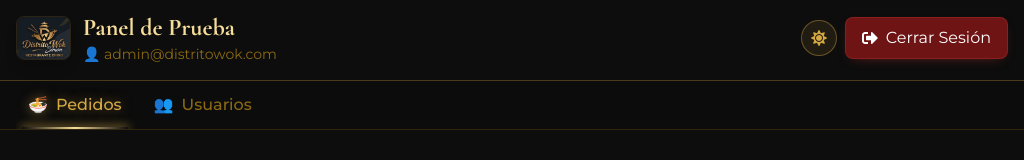
Test: el botón de modo queda a la izquierda de Cerrar Sesión y alterna el modo
What coordinates should you click on to do the following:
click the button named "Cambiar a modo diurno"
I would click on:
 (819, 38)
Its box is [801,20,837,56].
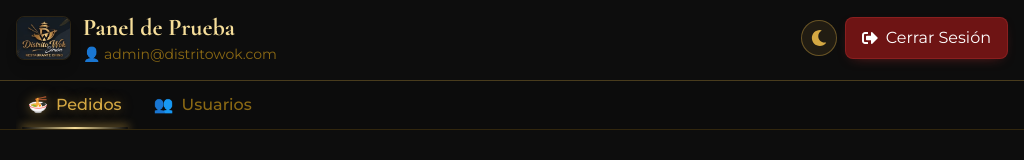
Expected: the button "Cerrar Sesión" is shown, [845,17,1008,59]
Result: the button named "Cambiar a modo nocturno" is shown at [801,20,837,56]
